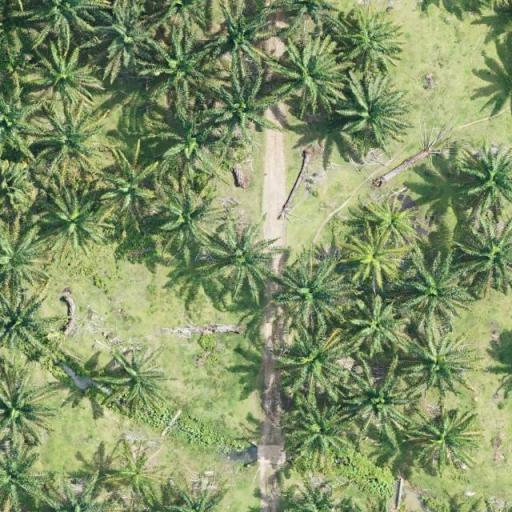Ganoderma: (44, 117, 95, 161), (368, 200, 415, 242), (346, 18, 392, 60), (422, 420, 466, 460), (118, 454, 158, 494), (354, 246, 396, 280)
